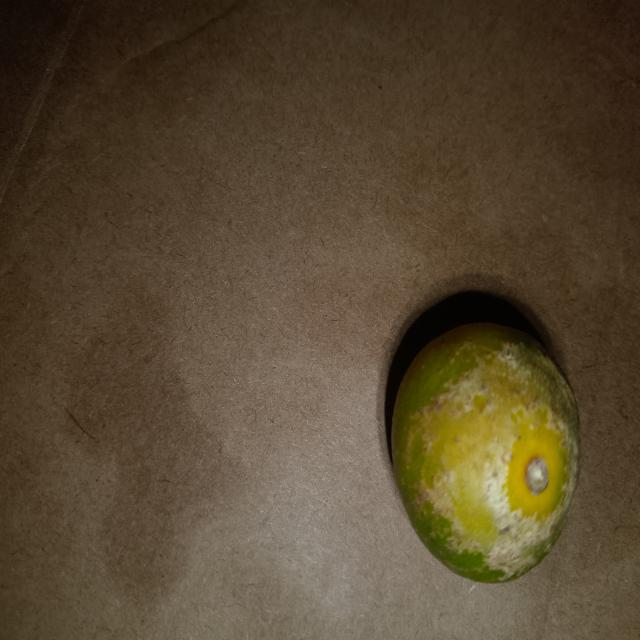thrips: (391, 312, 583, 582)
